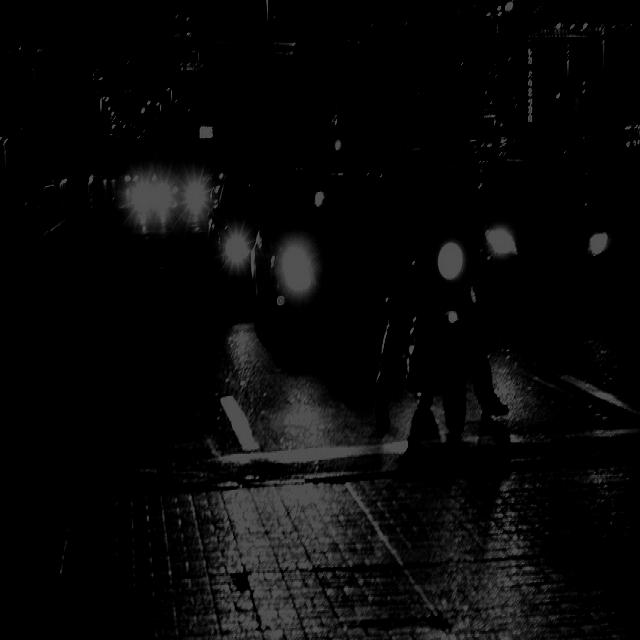Motorbike: (383, 193, 491, 444)
